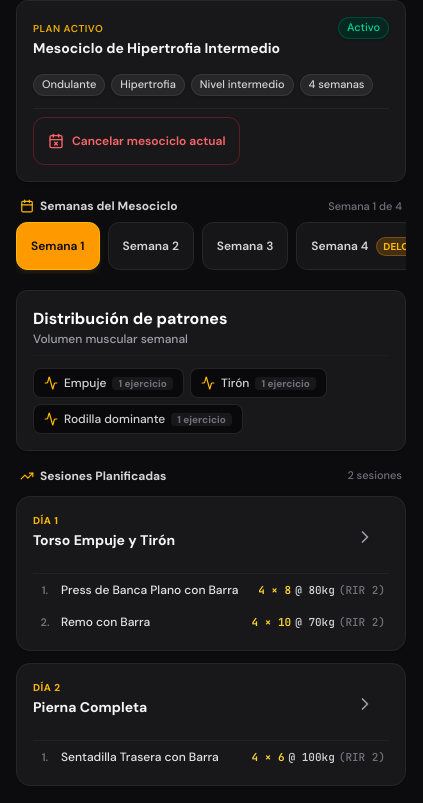
TASK-65: MesocyclePage Dashboard & Deload Notice (RF-02, RF-10, CA-10.2) › should switch sessions when clicking another week tab
The image size is (423, 803).
Expected: the heading "Torso Empuje y Tirón" is shown, x1=33 y1=530 x2=175 y2=550
# Click Week 2
Click the button "Semana 2". click: click(151, 246)
box: x1=108 y1=222 x2=194 y2=270
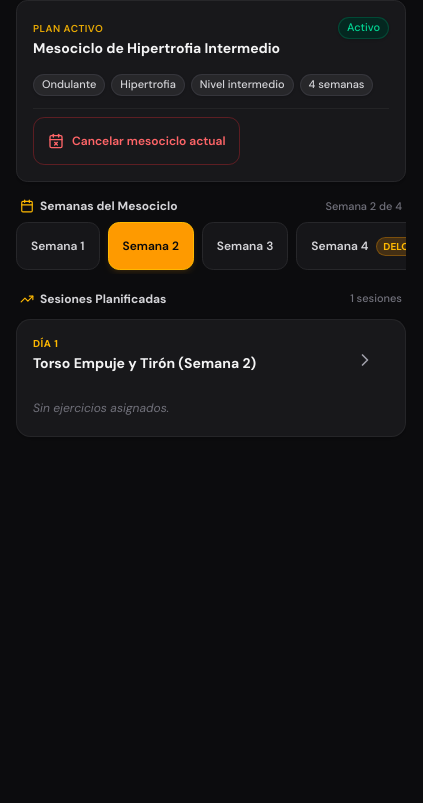
Result: the heading "Torso Empuje y Tirón (Semana 2)" is shown at x1=33 y1=353 x2=256 y2=373
Result: the heading "Pierna Completa" is gone
